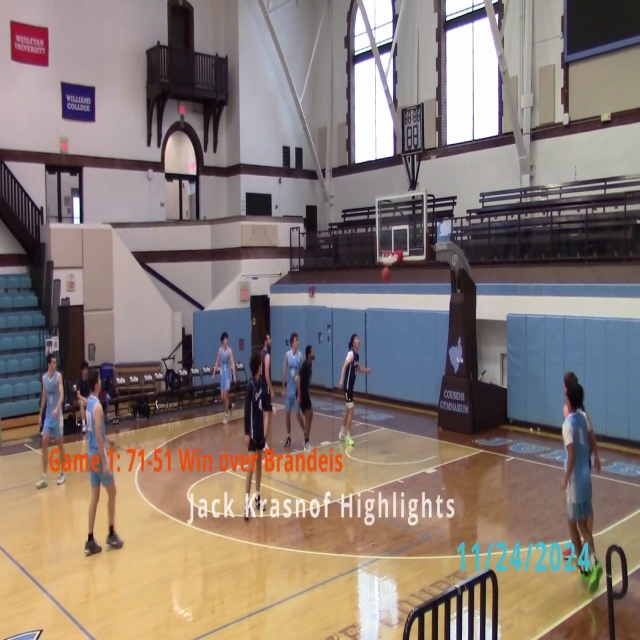Basketball: (378, 251, 398, 266), (380, 267, 390, 281), (346, 438, 354, 446)
